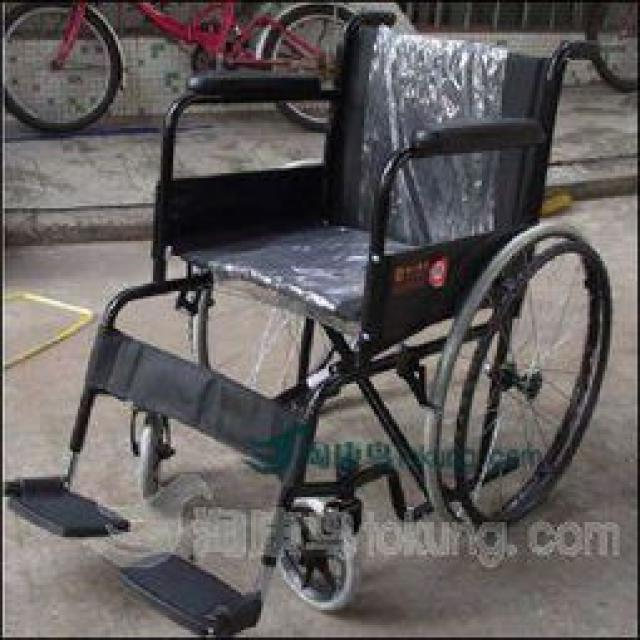wheelchairs: (8, 4, 612, 636)
